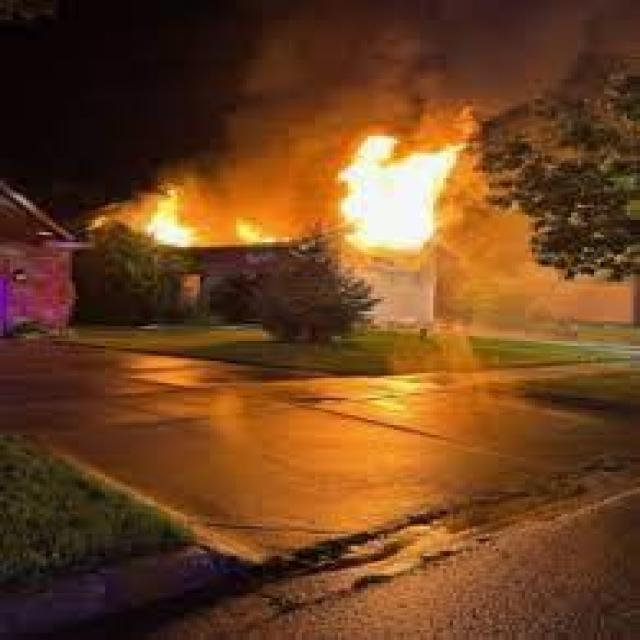Fire: (340, 140, 477, 270), (141, 196, 220, 238)
Smoke: (269, 4, 640, 176)
